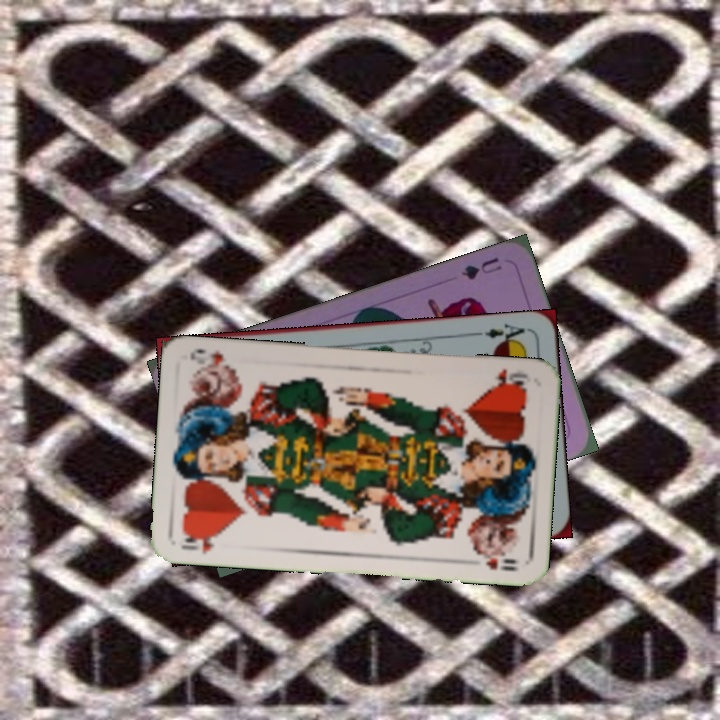EA: (471, 319, 531, 347)
GU: (457, 253, 505, 283)
HO: (178, 529, 225, 557), (487, 364, 530, 392)
